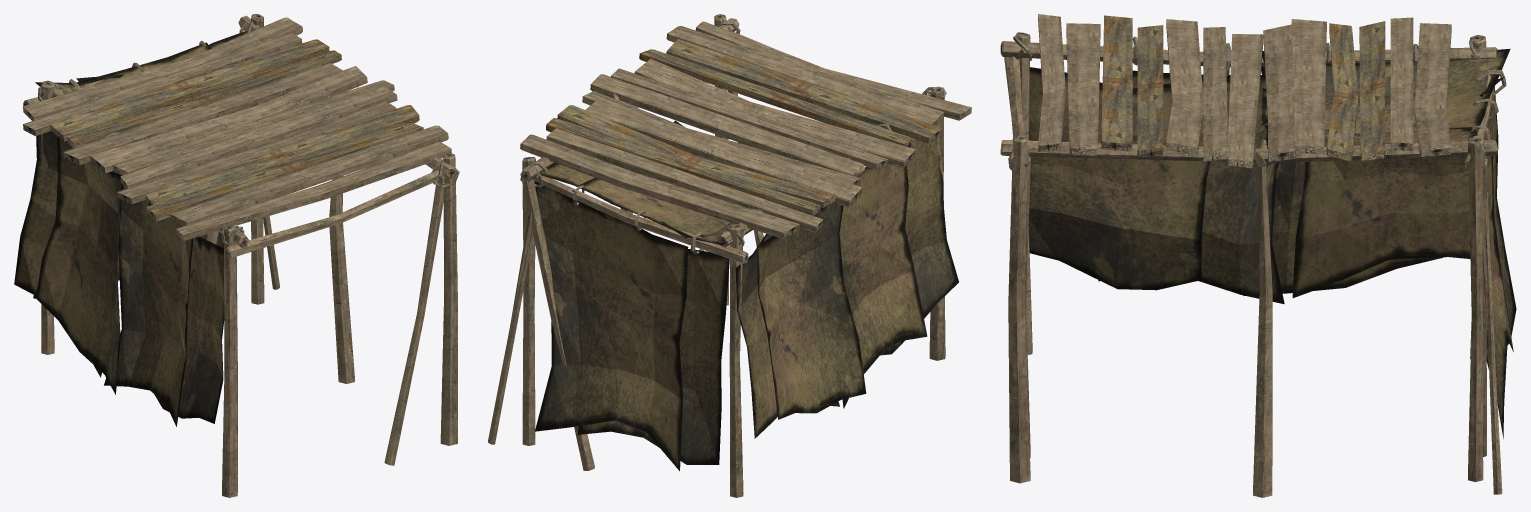
The model's file is TW2_5_MINEHUT_01_1-transformed.glb.
The picture shows the model from 3 angles, left to right: view 1: azimuth 30°, elevation 25°; view 2: azimuth 150°, elevation 25°; view 3: azimuth 270°, elevation 25°; orthographic projection. The views are drawn at different scales.
Parts seen in each view (by area): view 1: default; view 2: default; view 3: default.
Boxes of the visible parts, left/top/right/bottom form: default: left=14, top=14, right=459, bottom=497; default: left=488, top=14, right=971, bottom=497; default: left=1000, top=14, right=1516, bottom=497.
Size of the model in its own units: 3.35 by 3.28 by 4.29.
Materials: 2 (2 with a texture image).
